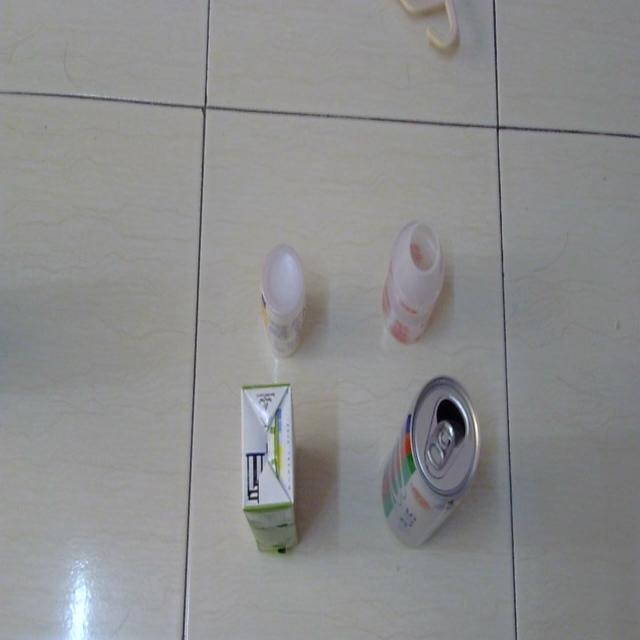metal_standrotation: (379, 367, 483, 552)
plastic_standrotation: (236, 377, 304, 556), (382, 211, 445, 358), (254, 237, 316, 371)
